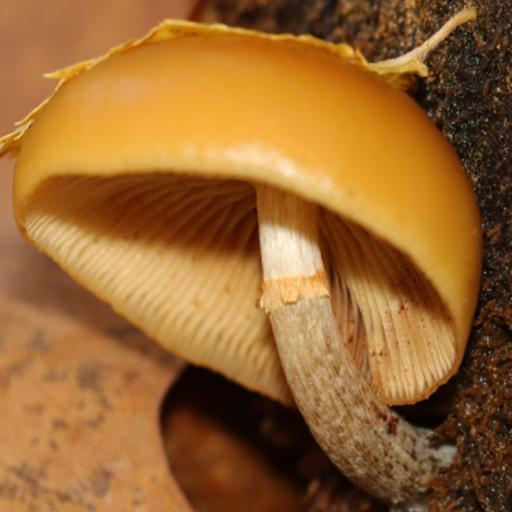mushroom: (9, 23, 485, 437)
